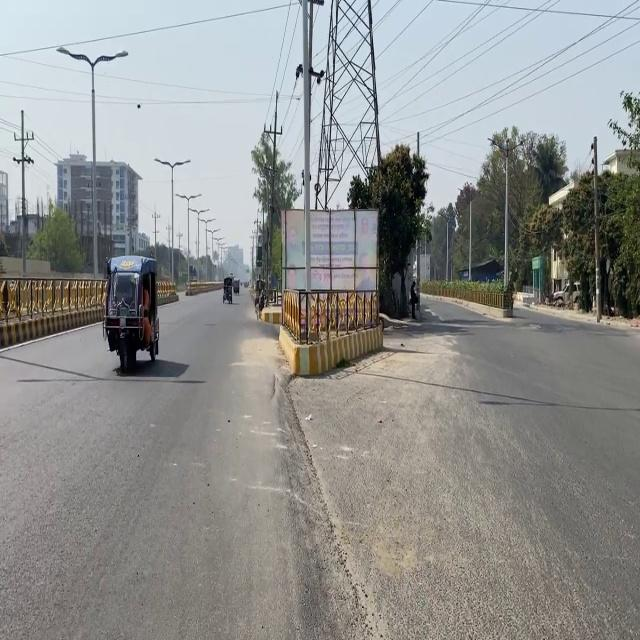Construction-barrier: (272, 361, 363, 638), (0, 303, 104, 352), (419, 291, 509, 319), (249, 287, 282, 324), (185, 281, 222, 295), (259, 304, 282, 324)
Fallen-tree: (222, 281, 233, 304)
Garbage-bin: (409, 280, 419, 319)
Traffic-cone: (101, 254, 161, 374), (546, 281, 581, 308)
